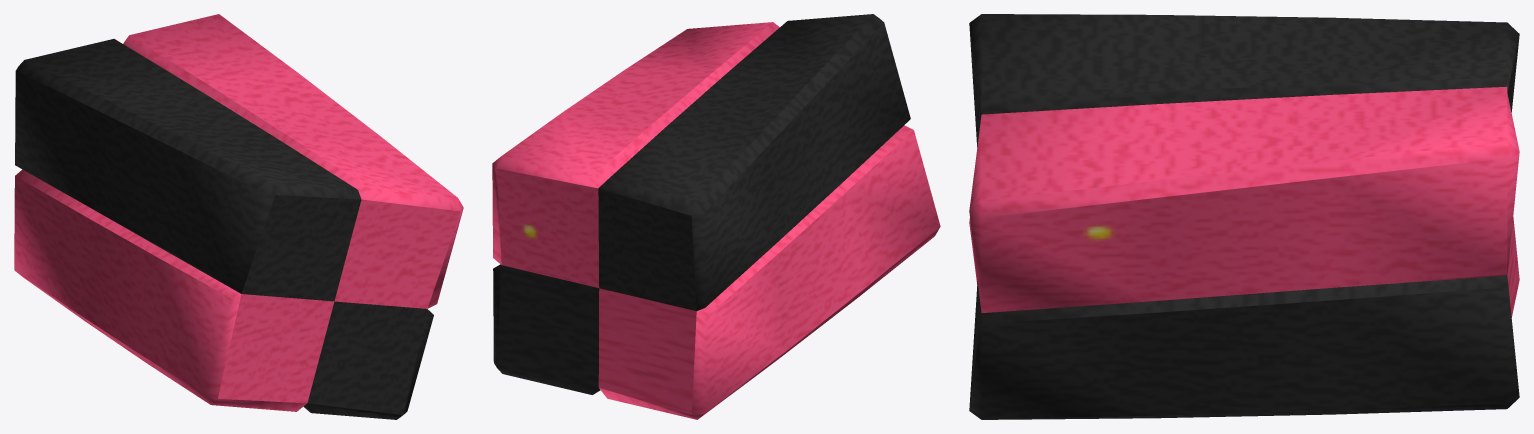
File: LicoriceCube2_UV_FBX.fbx
3 renders of one model, left to right at view 1: azimuth 30°, elevation 25°; view 2: azimuth 150°, elevation 25°; view 3: azimuth 270°, elevation 25°, orthographic. The views are drawn at different scales.
Visible parts, largest first — view 1: Checker; view 2: Checker; view 3: Checker.
Boxes of the visible parts, x1,y1,x2,y2 form: Checker: [14, 14, 463, 419]; Checker: [492, 14, 940, 419]; Checker: [969, 14, 1519, 419].
Bounding box in the file's own units: 121 × 119 × 180.
1 material, 1 textured.
